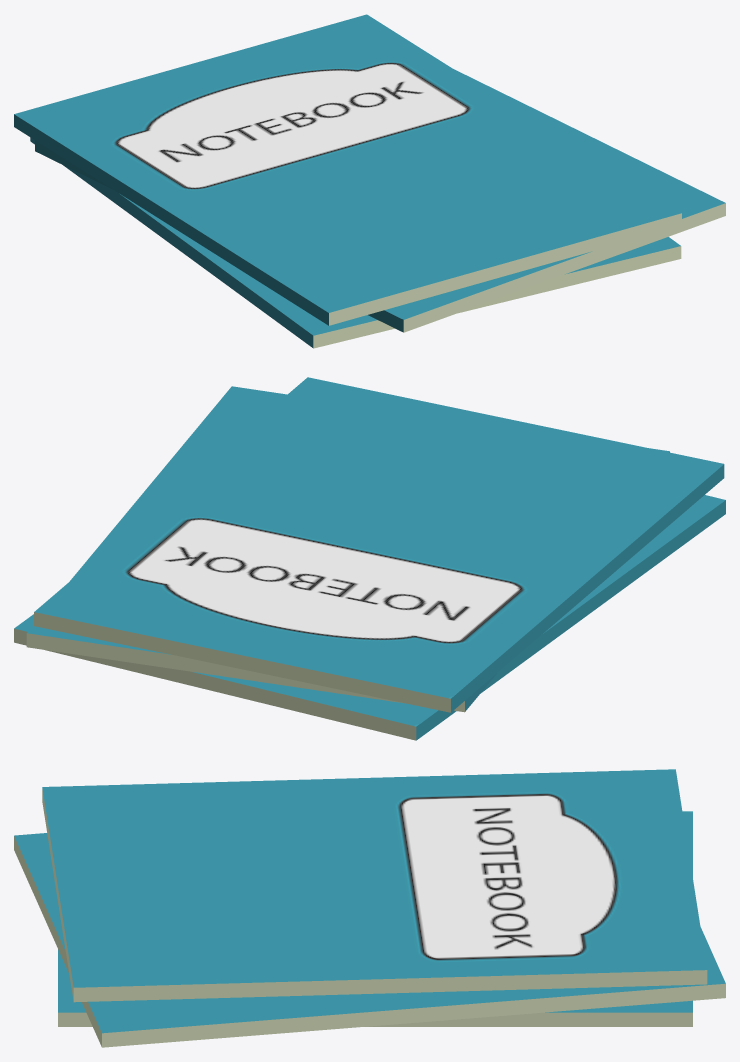
Rendered from NoteBook_Stack.fbx.
3 renders of one model, top to bottom at view 1: azimuth 30°, elevation 25°; view 2: azimuth 150°, elevation 25°; view 3: azimuth 270°, elevation 25°, orthographic. The views are drawn at different scales.
Parts seen in each view (by area): view 1: NoteBook_Stack; view 2: NoteBook_Stack; view 3: NoteBook_Stack.
Part boxes in pixels (x1,y1,x2,y2): NoteBook_Stack: [14, 14, 725, 348]; NoteBook_Stack: [14, 377, 725, 740]; NoteBook_Stack: [14, 769, 725, 1047].
Size of the model in its own units: 18.6 by 1.51 by 22.43.
